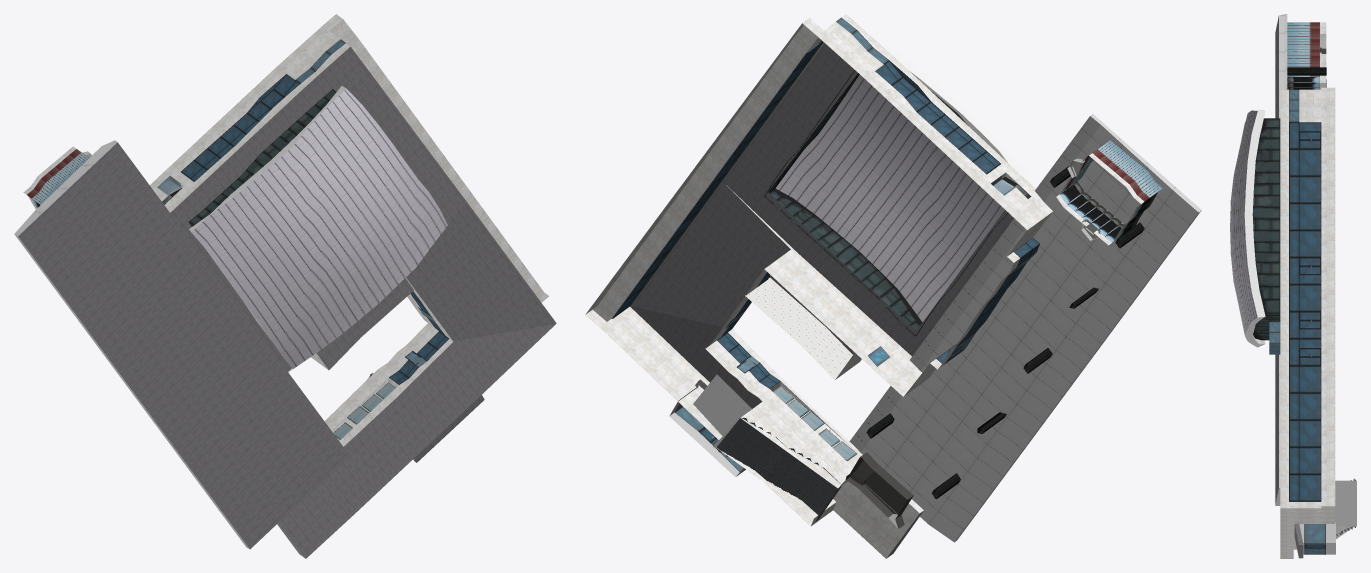
The model's file is Toompuiestee_37_1-origo.obj.
3 renders of one model, left to right at view 1: azimuth 30°, elevation 25°; view 2: azimuth 150°, elevation 25°; view 3: azimuth 270°, elevation 25°, orthographic. The views are drawn at different scales.
Visible parts, largest first — view 1: Toompuiestee_37_1; view 2: Toompuiestee_37_1; view 3: Toompuiestee_37_1, xxx.
Part boxes in pixels (x1,y1,x2,y2): Toompuiestee_37_1: (14,14,556,558); Toompuiestee_37_1: (585,14,1201,558); Toompuiestee_37_1: (1230,14,1355,558); xxx: (1335,480,1356,526).
Bounding box in the file's own units: 68.38 × 60 × 13.83.
